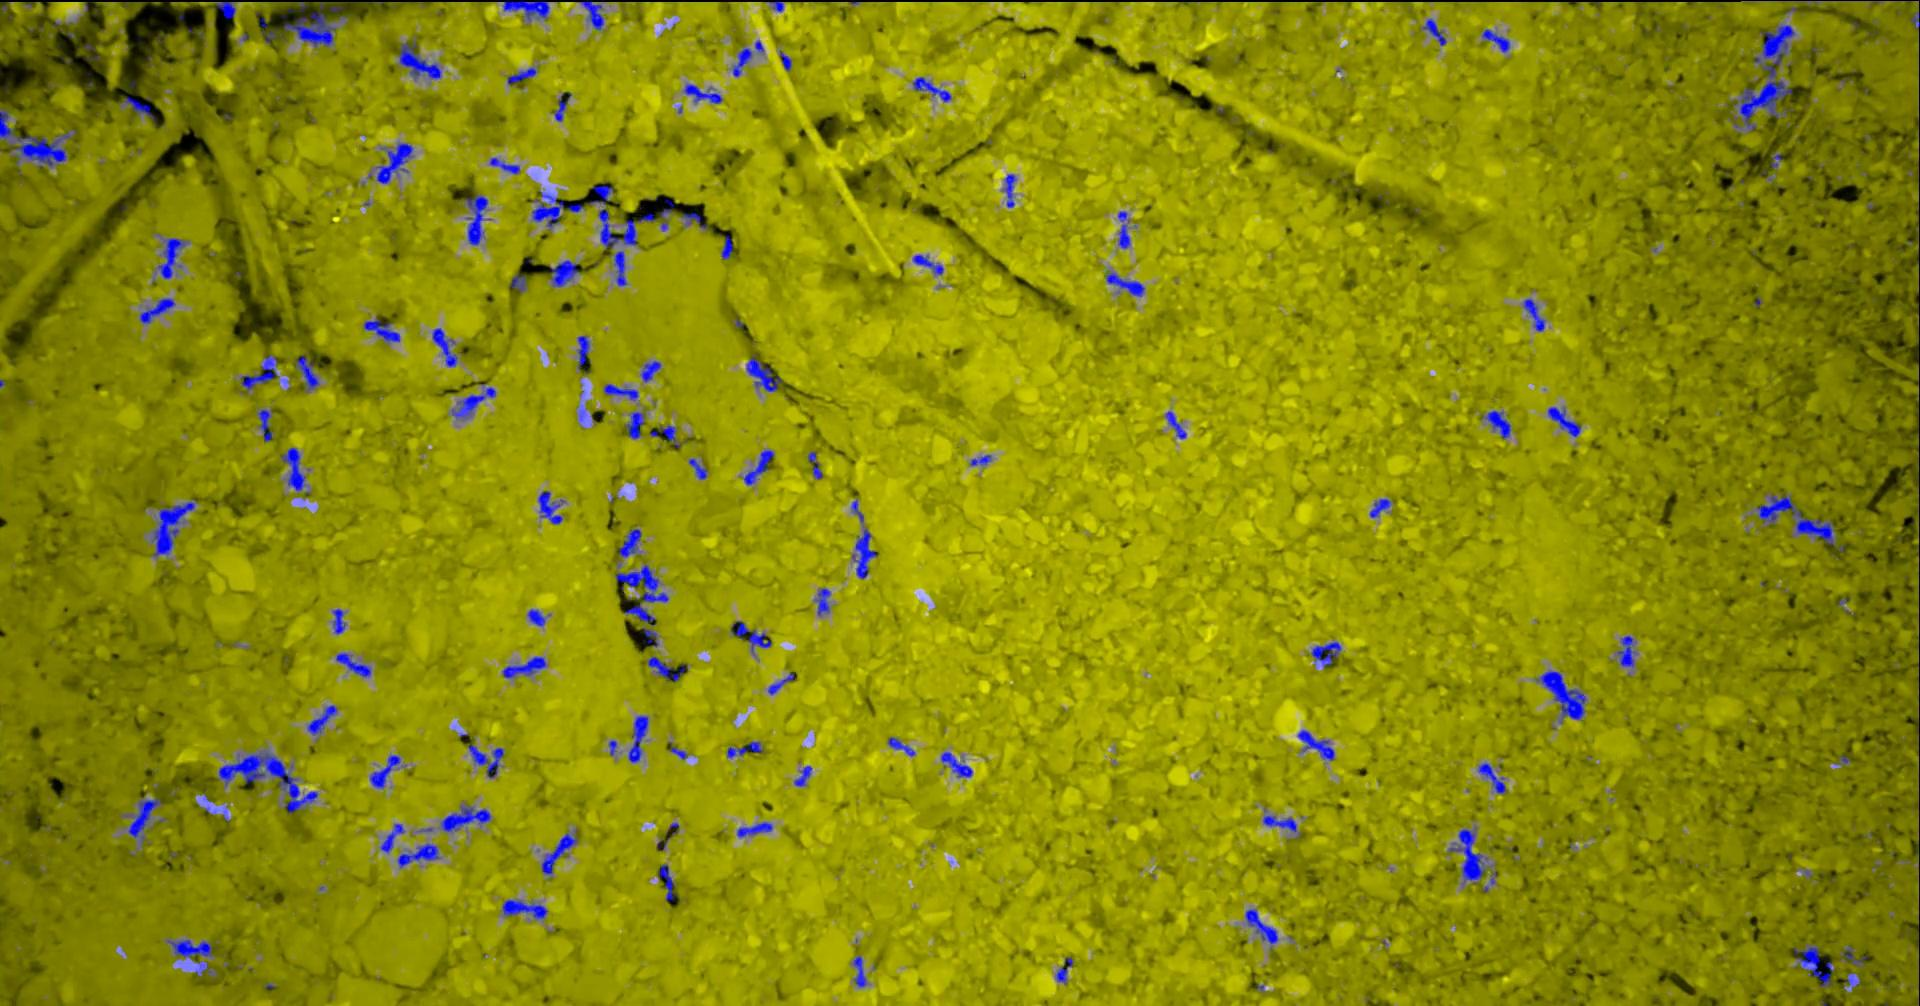ant: (589, 184, 657, 248), (1534, 669, 1585, 723), (151, 498, 196, 556), (283, 0, 335, 47), (615, 564, 668, 602), (1448, 828, 1486, 882), (531, 191, 583, 227), (1793, 944, 1834, 986), (541, 829, 577, 875), (128, 796, 163, 843), (397, 41, 441, 77), (240, 354, 278, 391), (376, 144, 411, 183), (745, 354, 782, 391), (451, 386, 495, 417), (730, 620, 771, 653), (1244, 909, 1277, 950), (467, 742, 503, 779), (439, 805, 490, 831), (851, 528, 876, 578), (463, 194, 488, 245), (1297, 729, 1335, 760), (157, 238, 185, 278), (119, 95, 157, 124), (743, 448, 773, 484), (279, 447, 303, 492), (430, 326, 457, 366), (397, 843, 439, 868), (370, 754, 400, 788), (912, 76, 951, 102), (1105, 271, 1144, 296), (168, 939, 213, 960), (1547, 406, 1580, 436), (502, 655, 546, 677), (502, 0, 549, 20), (627, 715, 648, 762), (648, 655, 687, 680), (138, 297, 175, 323), (502, 899, 547, 920), (307, 704, 337, 734), (537, 490, 564, 523), (335, 652, 370, 677), (1477, 762, 1505, 793), (940, 751, 971, 777), (1481, 410, 1510, 438), (363, 318, 399, 340), (683, 83, 723, 103), (295, 354, 317, 389), (1262, 808, 1297, 831), (578, 0, 603, 30), (549, 260, 579, 286), (1310, 641, 1341, 666), (1523, 298, 1544, 332), (380, 823, 404, 852), (658, 864, 677, 901), (649, 426, 681, 447), (623, 602, 655, 624), (259, 17, 284, 43), (1481, 28, 1509, 52), (618, 528, 641, 558), (912, 254, 943, 274), (1422, 18, 1446, 44), (726, 741, 762, 757), (1164, 412, 1186, 438), (767, 672, 794, 694), (603, 384, 637, 400), (1617, 635, 1634, 667), (731, 47, 750, 76), (888, 735, 914, 756), (737, 821, 772, 836), (507, 67, 536, 85), (554, 91, 571, 121), (625, 412, 644, 438), (1841, 945, 1865, 965), (257, 409, 272, 441), (613, 250, 627, 285), (489, 158, 519, 173), (659, 198, 673, 230), (1055, 956, 1072, 983), (640, 359, 660, 381), (577, 335, 589, 370), (852, 955, 866, 986), (1117, 211, 1129, 248), (1369, 498, 1390, 517), (792, 765, 811, 786), (681, 212, 707, 227), (814, 588, 829, 615), (808, 451, 822, 479), (850, 499, 863, 527), (215, 0, 235, 19), (688, 459, 707, 479), (667, 741, 687, 760), (1004, 174, 1016, 207), (331, 608, 345, 633), (509, 273, 526, 292), (641, 627, 658, 647), (527, 608, 543, 626), (778, 50, 791, 70), (194, 960, 211, 976), (1846, 972, 1860, 989), (969, 453, 990, 465), (721, 234, 731, 258), (1909, 11, 1919, 30), (1769, 152, 1782, 168), (768, 0, 783, 11)
